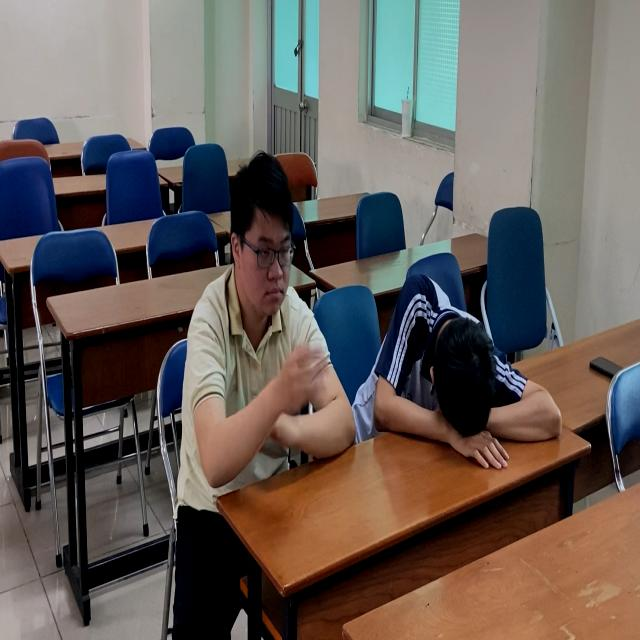sleep: (355, 276, 575, 470)
